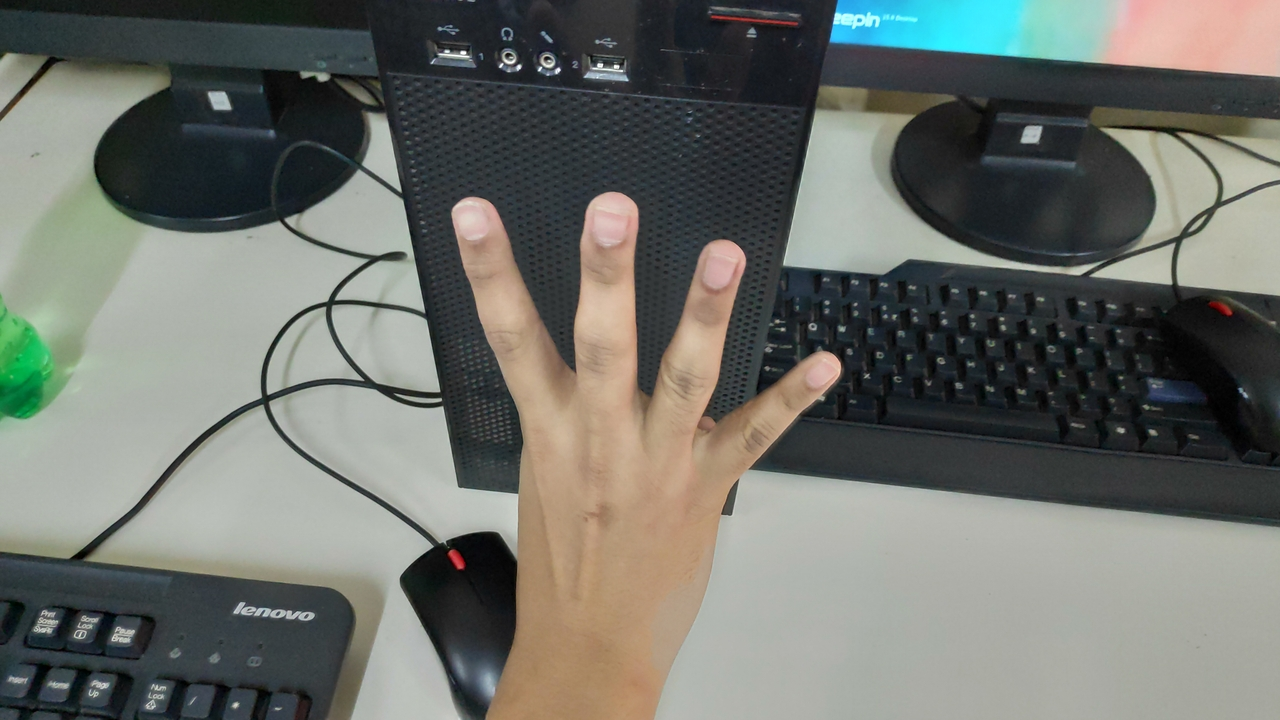fingertip: (568, 182, 648, 256), (680, 228, 754, 294), (436, 186, 510, 250), (778, 342, 856, 402)
